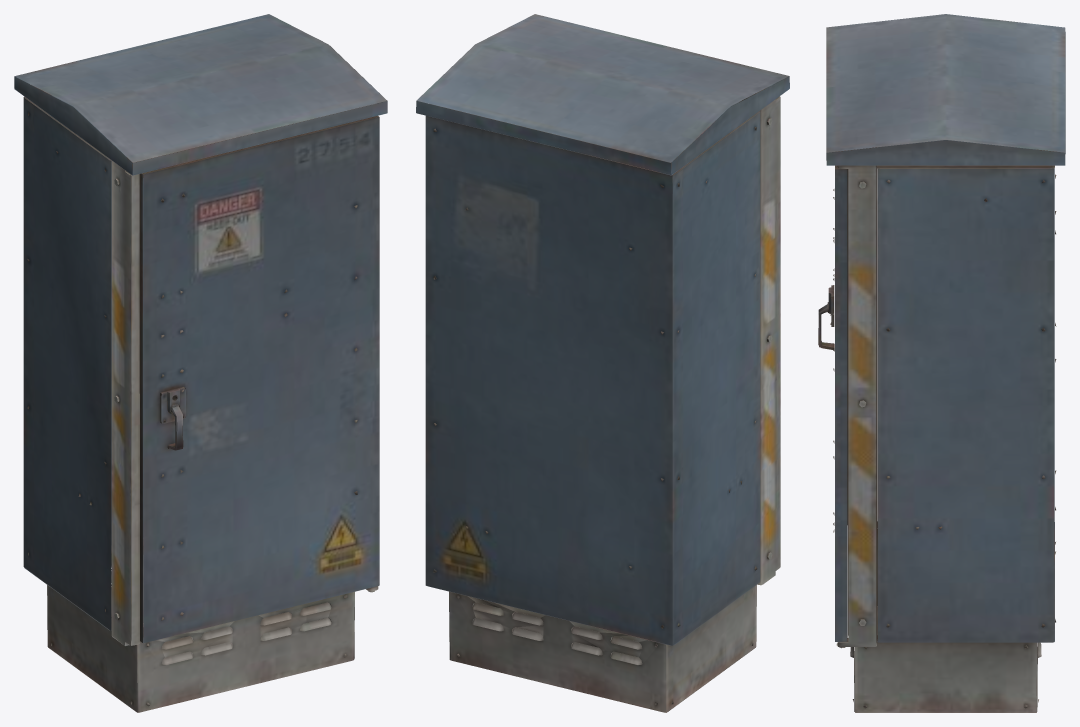
File: utility_box_01.glb
The picture shows the model from 3 angles, left to right: view 1: azimuth 30°, elevation 25°; view 2: azimuth 150°, elevation 25°; view 3: azimuth 270°, elevation 25°; orthographic projection.
Parts seen in each view (by area): view 1: utility_box_01_box; view 2: utility_box_01_box; view 3: utility_box_01_box.
Boxes of the visible parts, x1,y1,x2,y2 form: utility_box_01_box: (14, 14, 387, 712); utility_box_01_box: (416, 14, 789, 712); utility_box_01_box: (818, 14, 1065, 712).
Size of the model in its own units: 0.5178 by 1.12 by 0.4303.
1 material, 1 textured.
